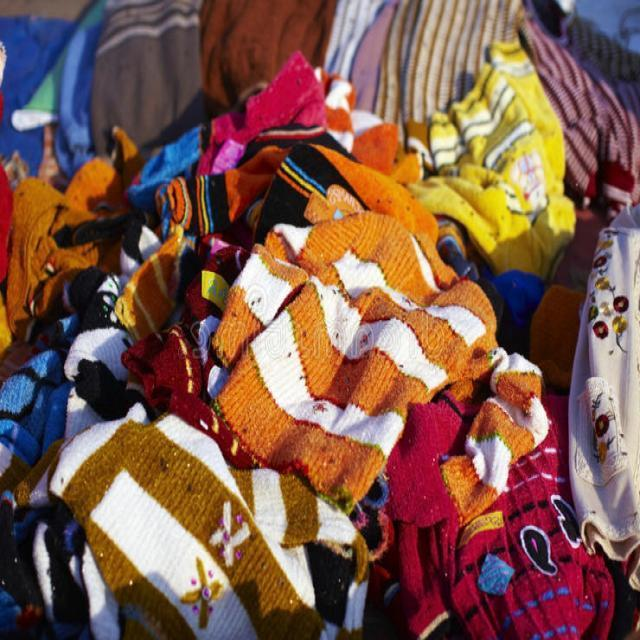clothes: (0, 125, 594, 592)
